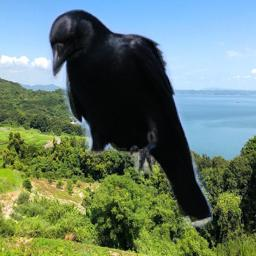Crow: (46, 8, 213, 232)
